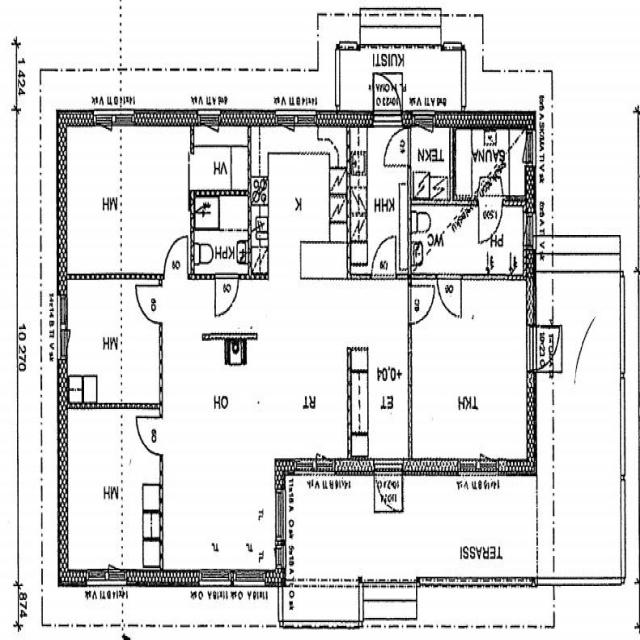door: (476, 193, 505, 245), (409, 274, 435, 326), (134, 278, 162, 323), (213, 270, 240, 316), (162, 232, 190, 276), (437, 272, 462, 320), (383, 126, 409, 167), (135, 412, 161, 453), (414, 107, 434, 134)
window: (56, 287, 68, 365), (274, 487, 288, 543), (233, 572, 267, 588), (200, 570, 231, 587), (102, 571, 128, 587)
zone: (162, 276, 276, 574), (272, 273, 409, 464), (411, 276, 527, 468), (62, 124, 187, 275), (64, 405, 160, 576), (250, 123, 348, 274), (63, 277, 161, 406), (191, 119, 249, 275), (409, 200, 526, 274), (349, 127, 407, 274), (453, 129, 527, 200), (453, 128, 526, 199), (409, 125, 452, 202), (190, 222, 250, 275), (189, 144, 251, 193), (372, 71, 402, 114), (372, 234, 397, 277), (192, 193, 220, 228)
